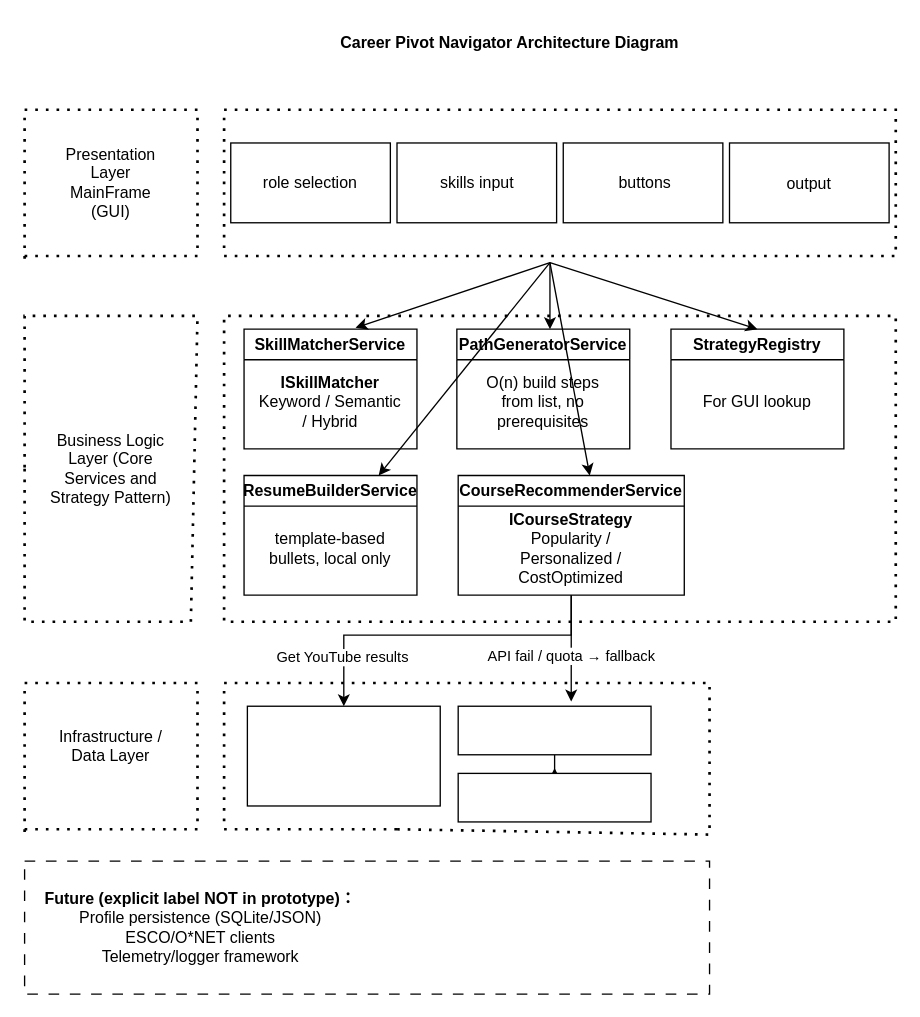
Image size: 920x1017. Some labels were removed from this diagram. The centre of each missing label's shape, as x and y in pixels:
FallbackRouter: point (554, 730)
LocalCatalogRepository ~10 courses: point (554, 797)
YouTubeClient （API） SimpleCache: point (343, 755)
